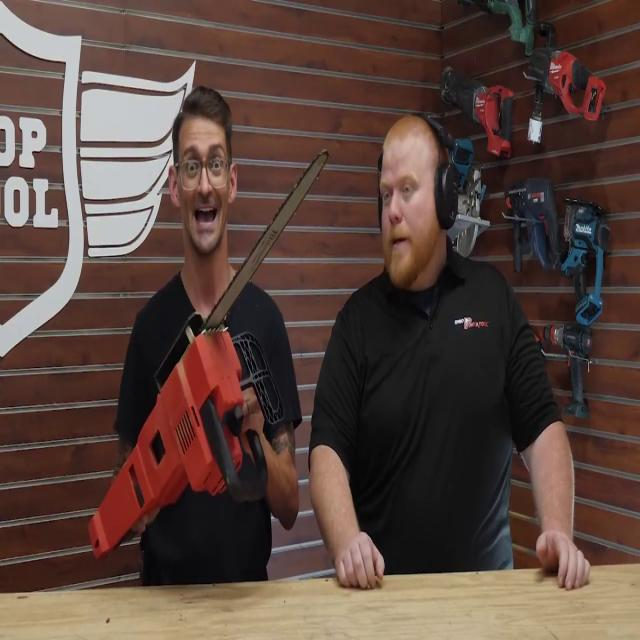earmuff: (440, 167, 458, 214)
glasses: (180, 152, 220, 187)
